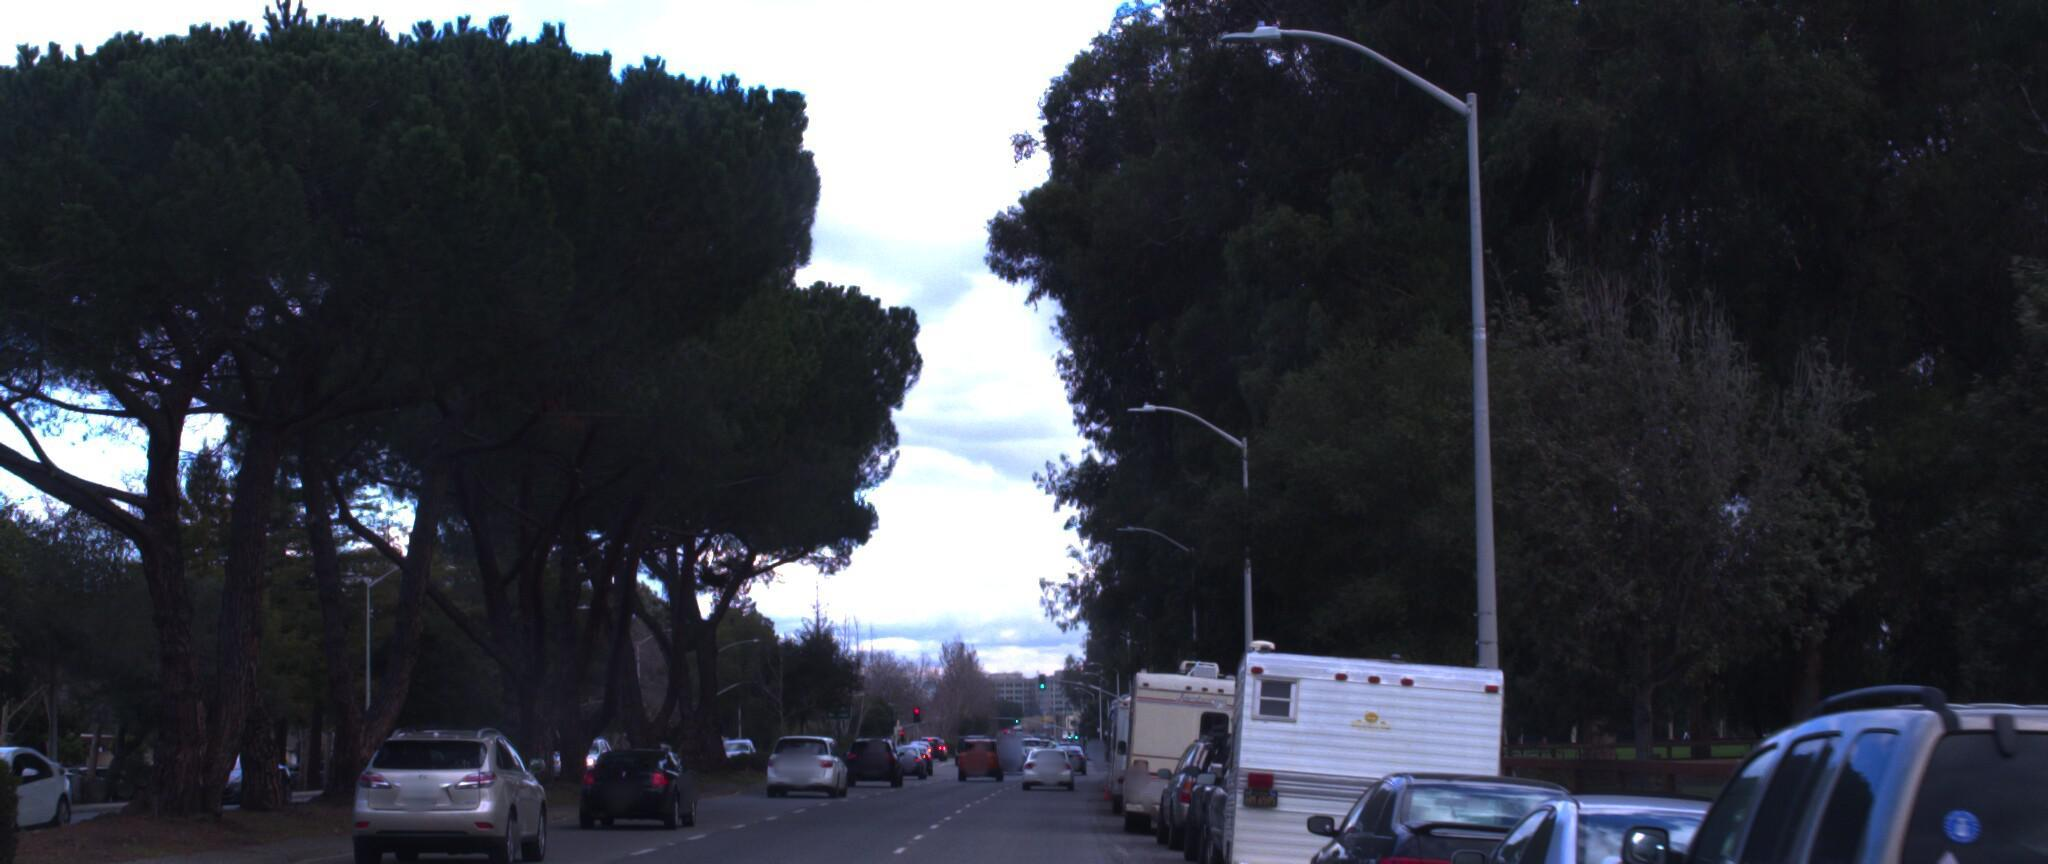car: (1543, 649, 2048, 864), (1401, 762, 1890, 864), (1276, 743, 1627, 864), (1185, 705, 1401, 864), (358, 700, 566, 848), (1166, 692, 1341, 856), (1143, 687, 1285, 834), (572, 723, 701, 820), (765, 713, 845, 774)
other_vehicle: (1208, 609, 1524, 864), (1113, 623, 1273, 814), (1098, 651, 1234, 795)
